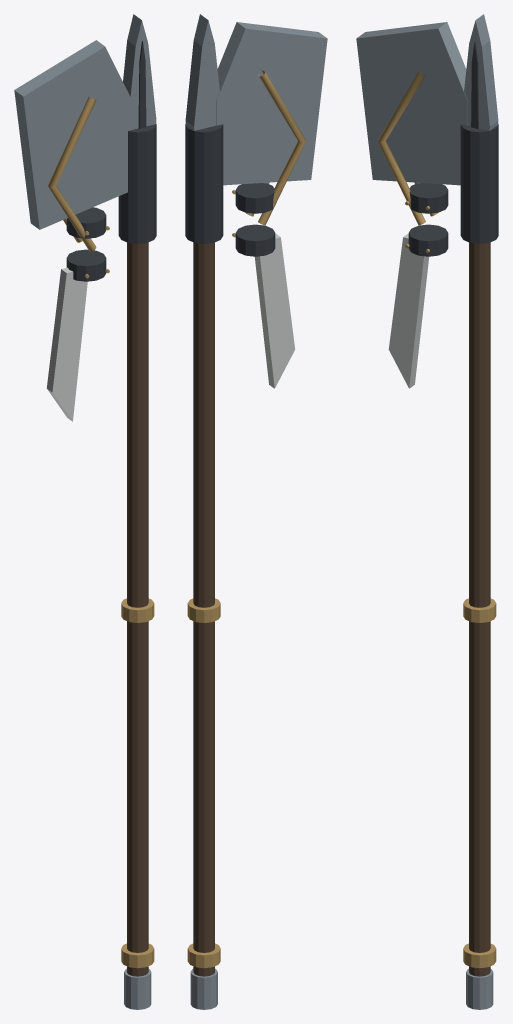
The picture shows the model from 3 angles, left to right: view 1: azimuth 30°, elevation 25°; view 2: azimuth 210°, elevation 25°; view 3: azimuth 330°, elevation 25°; orthographic projection.
Visible parts, largest first — view 1: TV-050 Edran Kael — Founder Polearm; view 2: TV-050 Edran Kael — Founder Polearm; view 3: TV-050 Edran Kael — Founder Polearm.
Boxes of the visible parts, x1,y1,x2,y2 form: TV-050 Edran Kael — Founder Polearm: (14,14,156,1009); TV-050 Edran Kael — Founder Polearm: (185,14,327,1009); TV-050 Edran Kael — Founder Polearm: (356,14,498,1009).
Bounding box in the file's own units: 0.33 × 2.3 × 0.091.
